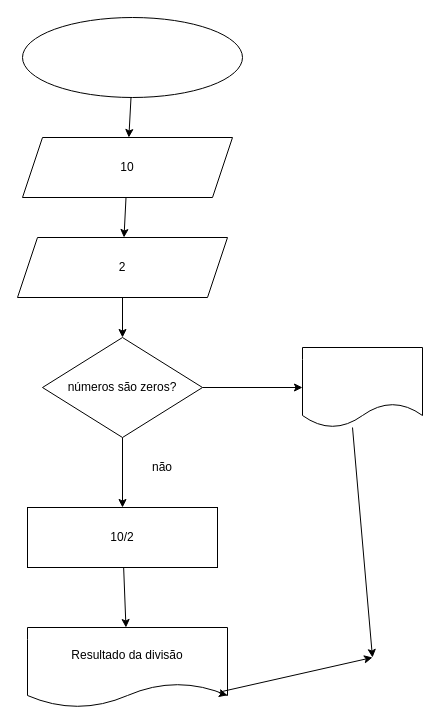
Image size: 440x725. Some labels were removed from this diagram. Here are the shapes that lost their labels. From the top down, the centre of each, then its label:
At point 132,57: "Inicio".
At point 362,387: "números precisa ser diferentes de zero".
